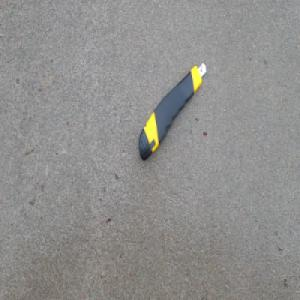Cutter: (138, 60, 207, 163)
